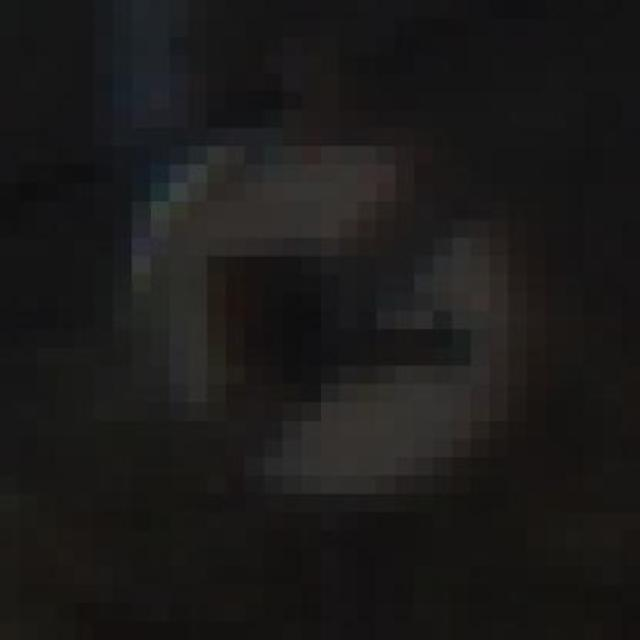Overtaking by trucks is prohibited: (94, 72, 528, 512)
